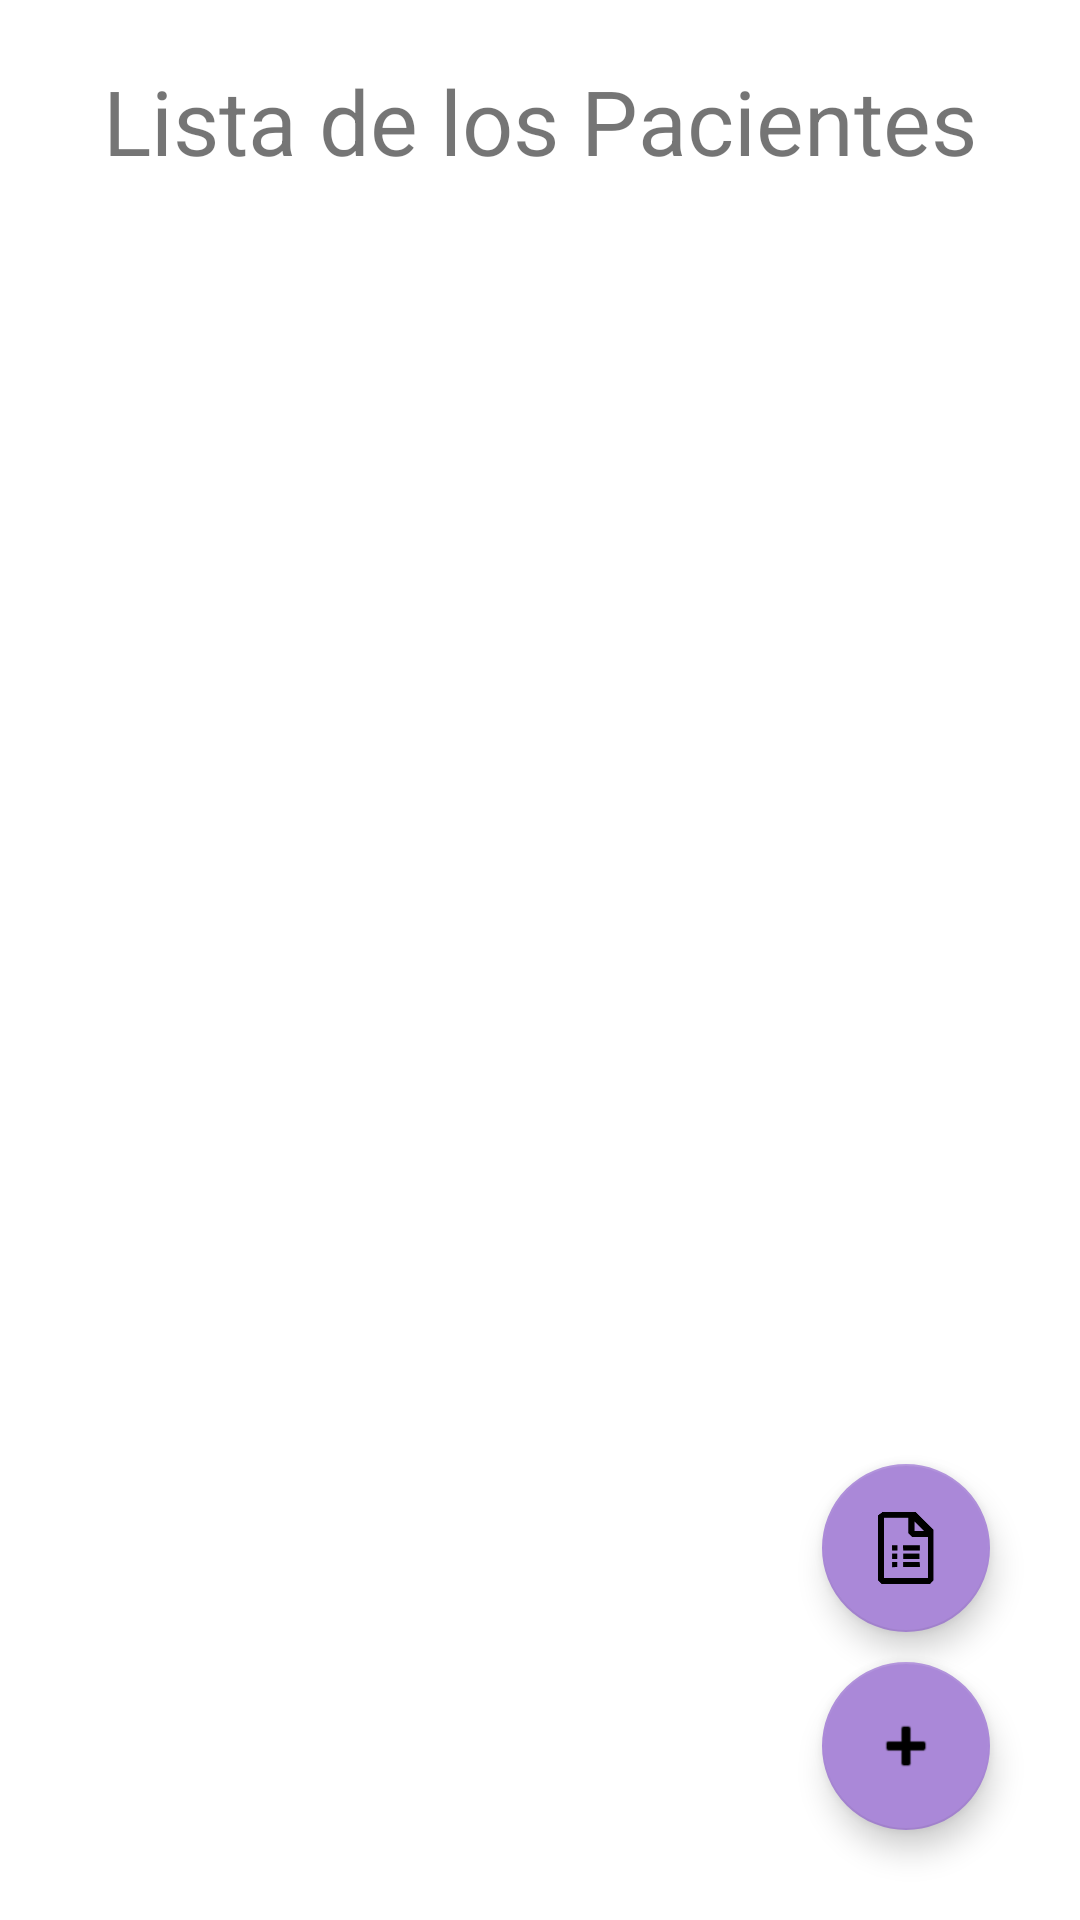

Named icons in this screenshot (1080px×1920px) and their centers, (x=x, y=y):
add: (x=906, y=1746)
google forms: (x=906, y=1548)
